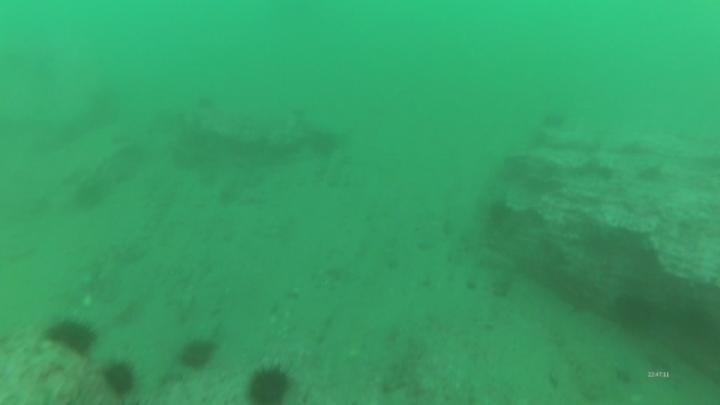echinus: (43, 315, 103, 361), (244, 362, 293, 405), (611, 291, 658, 334), (101, 358, 140, 399), (178, 337, 219, 371), (72, 180, 110, 212), (498, 153, 533, 180), (307, 130, 339, 159), (540, 111, 569, 134)
holothurian: (558, 333, 630, 405)
